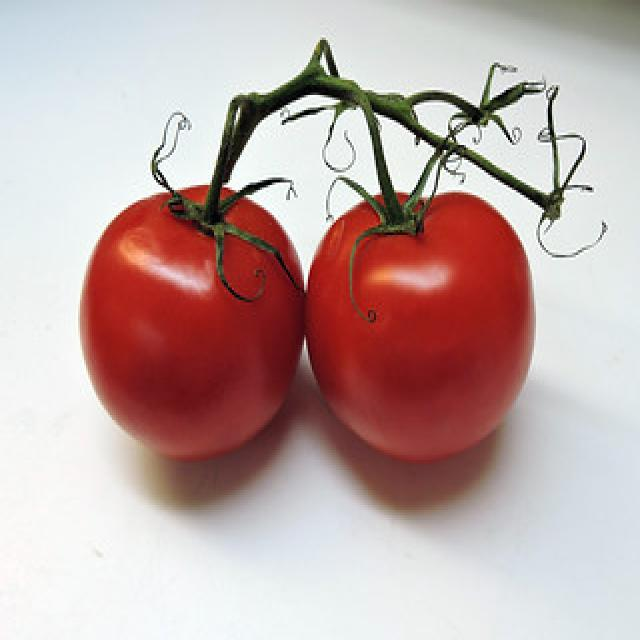Tomato: (74, 118, 304, 471), (305, 132, 538, 468)
